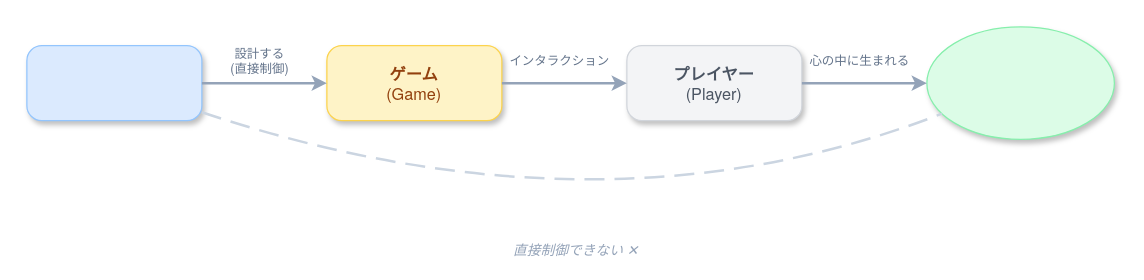
Some shapes in this 1144 by 280 pixel diagram are drawn without their labels. The shapes that lost their labels are listed below. From the top down, each one's centre as x and y in pixels, then its label:
pixel 115 84: デザイナー (Designer)
pixel 1021 84: 体 験 (Experience)
